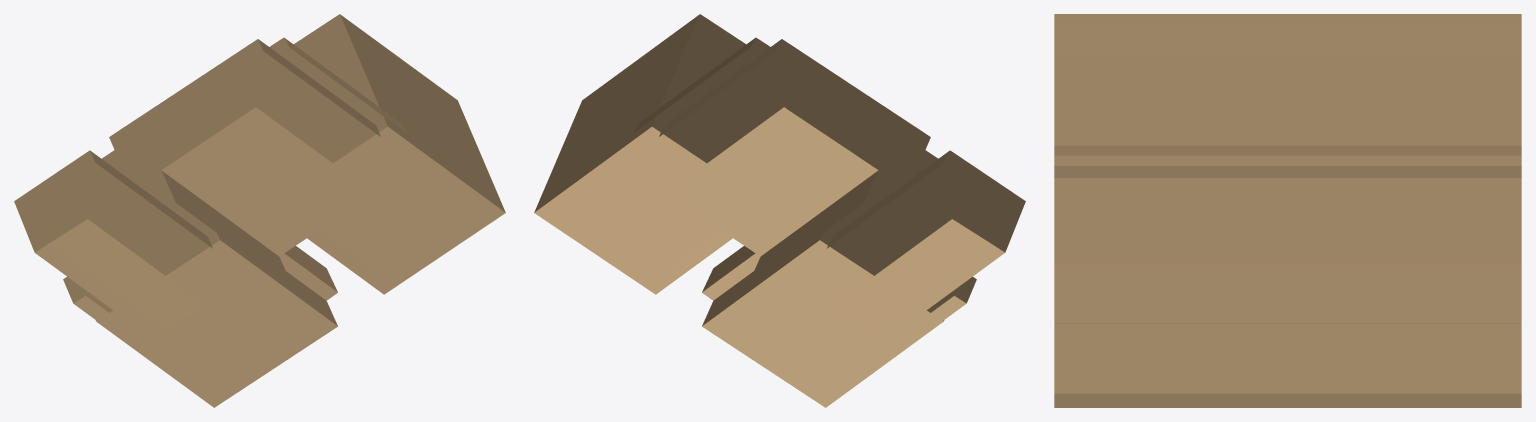
3 views of the same model, side by side, from view 1: azimuth 30°, elevation 25°; view 2: azimuth 150°, elevation 25°; view 3: azimuth 270°, elevation 25° (orthographic). The views are drawn at different scales.
Visible parts, largest first — view 1: 0_1_3_2_1_2_0_1; view 2: 0_1_3_2_1_2_0_1; view 3: 0_1_3_2_1_2_0_1.
Boxes of the visible parts, x1=… form: 0_1_3_2_1_2_0_1: x1=14, y1=14, x2=505, y2=407; 0_1_3_2_1_2_0_1: x1=534, y1=14, x2=1025, y2=407; 0_1_3_2_1_2_0_1: x1=1054, y1=14, x2=1521, y2=407.
Bounding box in the file's own units: 43.9 × 27.85 × 24.
